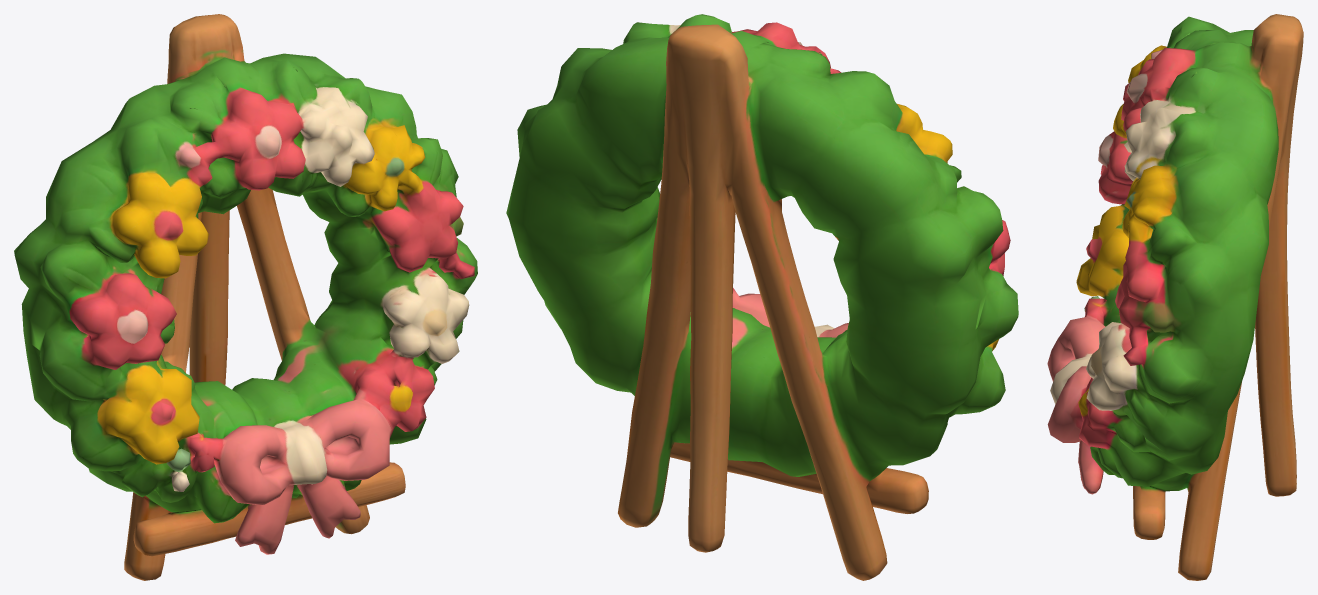
3 renders of one model, left to right at view 1: azimuth 30°, elevation 25°; view 2: azimuth 150°, elevation 25°; view 3: azimuth 270°, elevation 25°, orthographic. The views are drawn at different scales.
Visible parts, largest first — view 1: wreath; view 2: wreath; view 3: wreath.
Part boxes in pixels (x1,y1,x2,y2): wreath: (14,14,477,580); wreath: (506,14,1018,580); wreath: (1047,14,1303,580).
Size of the model in its own units: 1.09 by 1.2 by 0.5504.
1 material, 1 textured.
